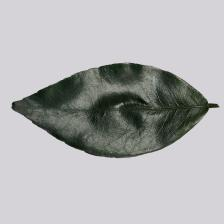healthy: (10, 63, 210, 161)
